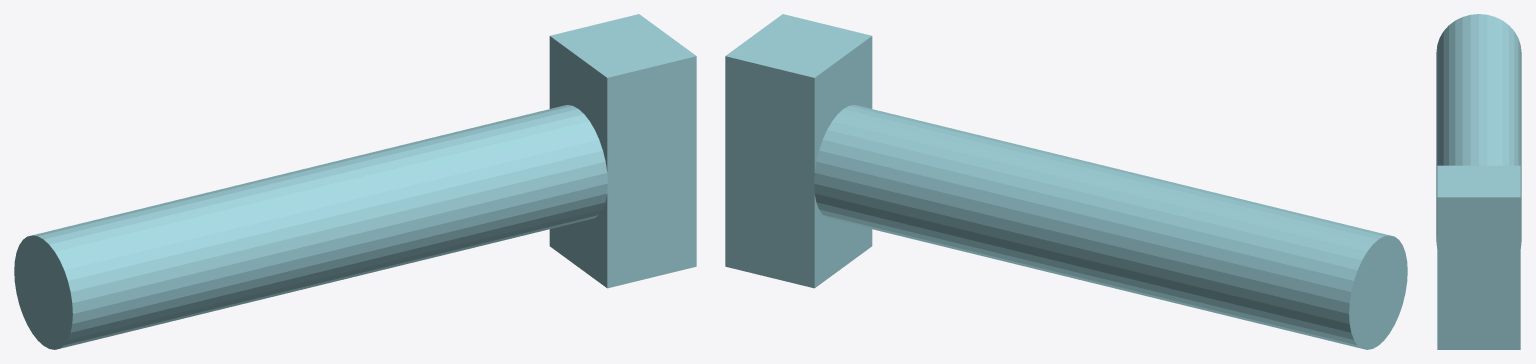
The model's file is cylinder_hammer_v1015.obj.
The picture shows the model from 3 angles, left to right: view 1: azimuth 30°, elevation 25°; view 2: azimuth 150°, elevation 25°; view 3: azimuth 270°, elevation 25°; orthographic projection. The views are drawn at different scales.
Size of the model in its own units: 0.3488 by 0.1124 by 0.0568.
Materials: 1 (1 with a texture image).
